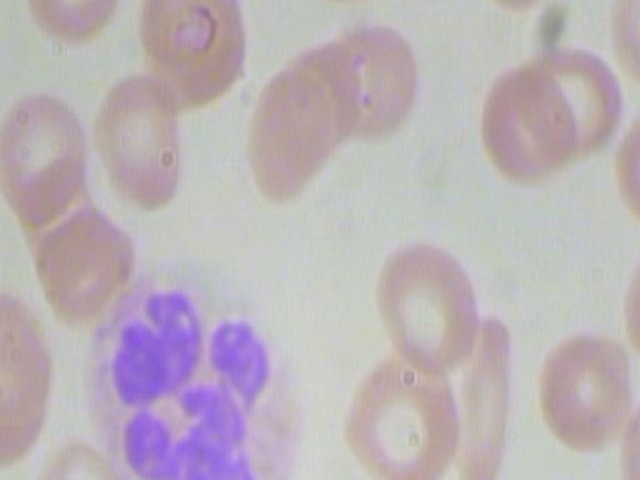RBC: (327, 351, 464, 480), (374, 230, 487, 371), (331, 15, 438, 152), (529, 323, 638, 456), (90, 68, 182, 217), (523, 43, 635, 164), (472, 55, 578, 182), (249, 64, 334, 210), (0, 83, 90, 218), (456, 300, 513, 480), (0, 279, 53, 413), (0, 345, 49, 475), (26, 438, 133, 480)
WBC: (75, 270, 318, 480)
